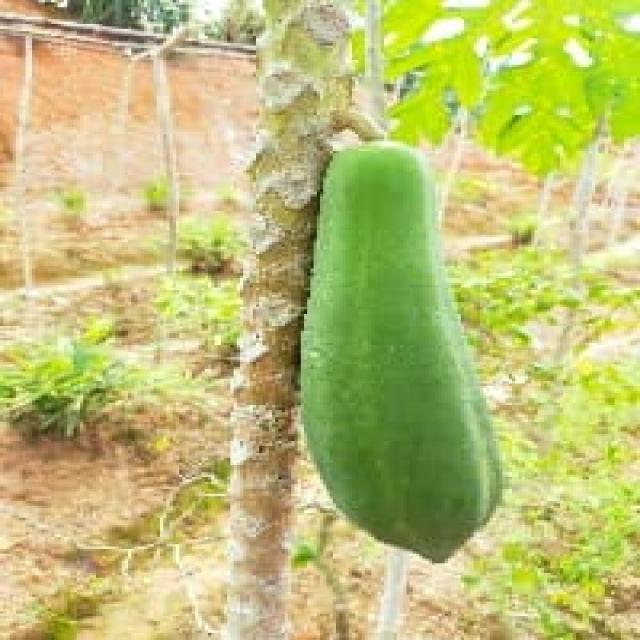Pepaya: (294, 139, 502, 563)
